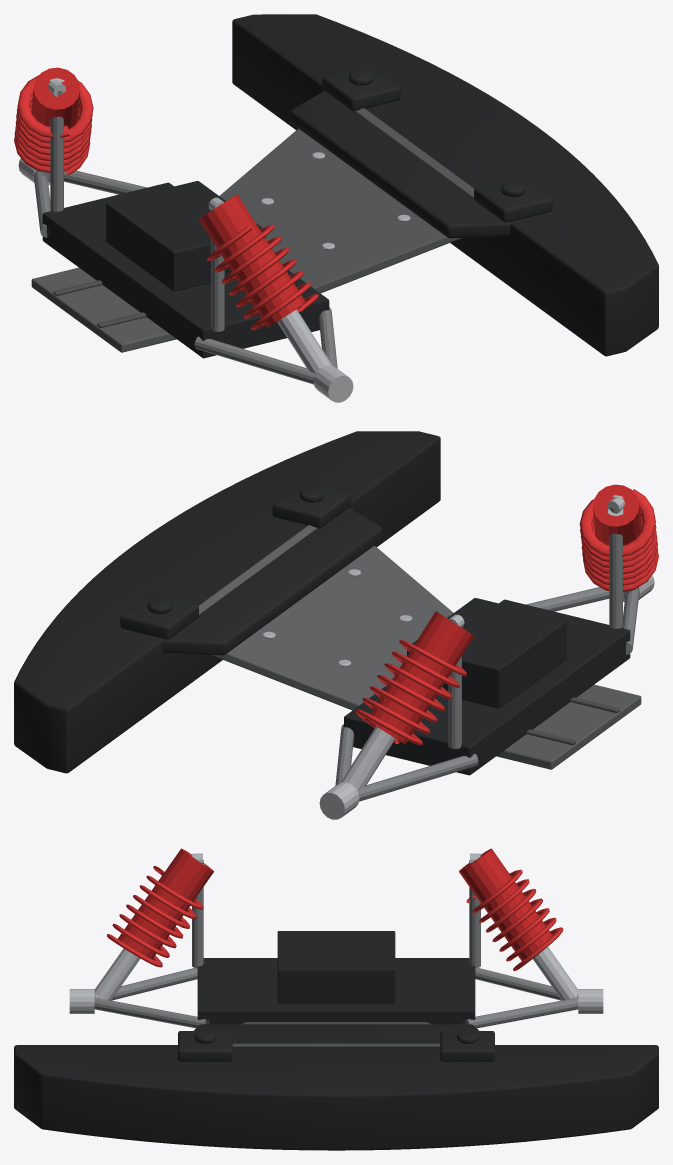
Rendered from roboracer_front_axle.dae.
3 renders of one model, top to bottom at view 1: azimuth 30°, elevation 25°; view 2: azimuth 150°, elevation 25°; view 3: azimuth 270°, elevation 25°, orthographic. The views are drawn at different scales.
Visible parts, largest first — view 1: Front_Axle_Rubber_Bumper, Front_Axle_Bulkhead_Skid, Front_Axle_Suspension; view 2: Front_Axle_Rubber_Bumper, Front_Axle_Bulkhead_Skid, Front_Axle_Suspension; view 3: Front_Axle_Rubber_Bumper, Front_Axle_Bulkhead_Skid, Front_Axle_Suspension.
Part boxes in pixels (<box>): Front_Axle_Rubber_Bumper: <box>232,14,658,356</box>; Front_Axle_Bulkhead_Skid: <box>31,108,474,358</box>; Front_Axle_Suspension: <box>14,67,353,402</box>; Front_Axle_Rubber_Bumper: <box>14,431,440,773</box>; Front_Axle_Bulkhead_Skid: <box>198,525,641,775</box>; Front_Axle_Suspension: <box>319,484,658,819</box>; Front_Axle_Rubber_Bumper: <box>14,1024,658,1150</box>; Front_Axle_Bulkhead_Skid: <box>197,931,475,1046</box>; Front_Axle_Suspension: <box>69,848,603,1028</box>.
Size of the model in its own units: 0.2191 by 0.3068 by 0.0776.
